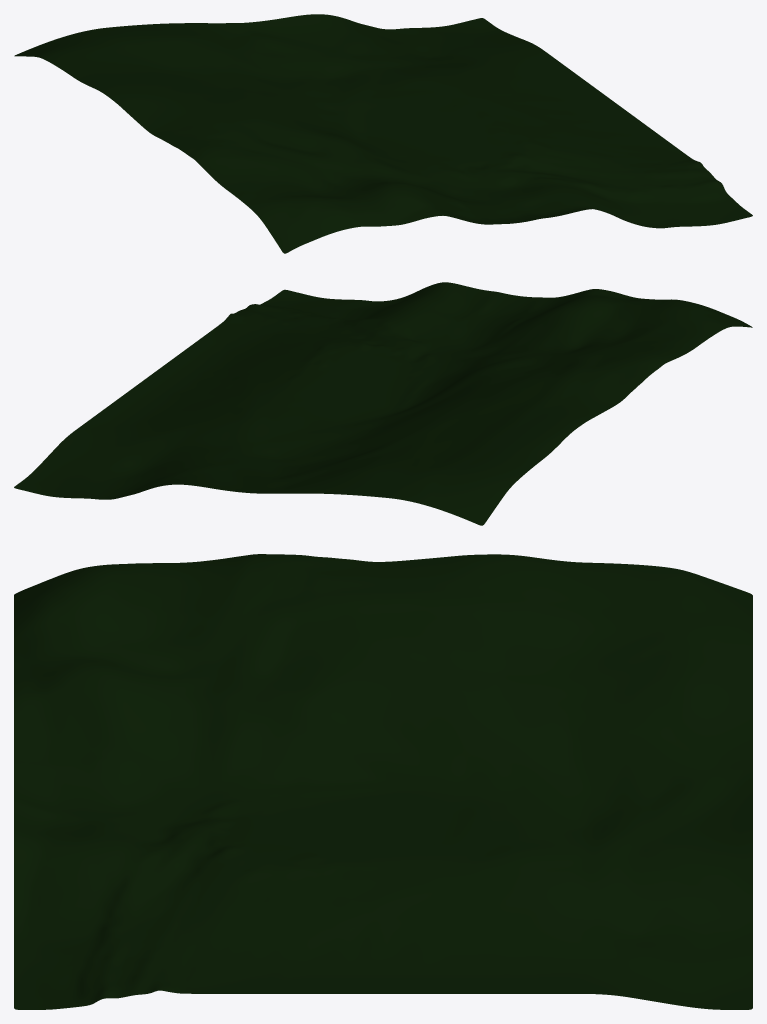
The model's file is Ground01.fbx.
3 views of the same model, one above another, from view 1: azimuth 30°, elevation 25°; view 2: azimuth 150°, elevation 25°; view 3: azimuth 270°, elevation 25° (orthographic). The views are drawn at different scales.
Parts seen in each view (by area): view 1: Plane.005; view 2: Plane.005; view 3: Plane.005.
Boxes of the visible parts, x1=… form: Plane.005: x1=14, y1=14, x2=752, y2=253; Plane.005: x1=14, y1=282, x2=752, y2=525; Plane.005: x1=14, y1=554, x2=752, y2=1009.
Bounding box in the file's own units: 5815 × 1272 × 5807.
